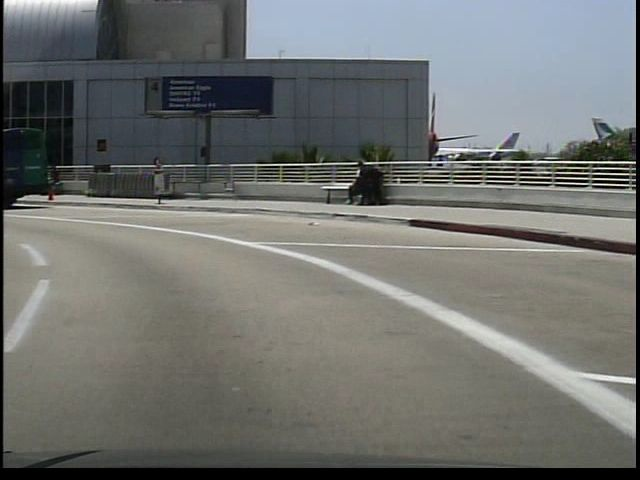person: (45, 163, 64, 201)
